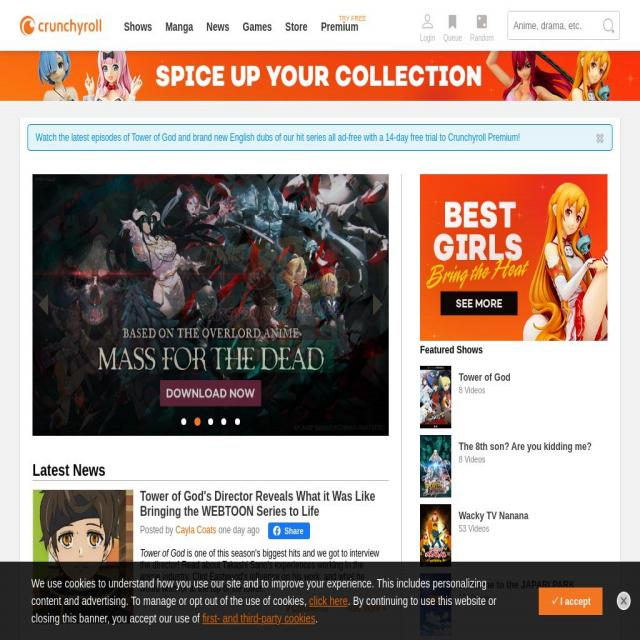login-option: (415, 8, 437, 44)
navigation-links: (118, 15, 372, 50)
search: (507, 3, 622, 45)
